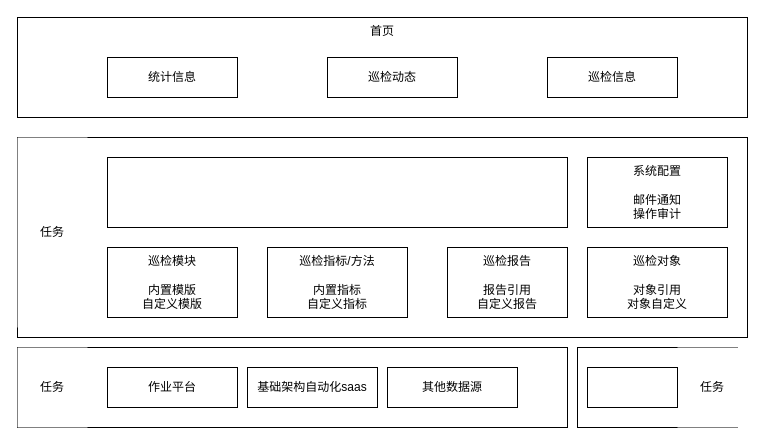
Image size: 765x445. Some labels were removed from this diagram. The shapes that lost their labels are listed below. From the top down, each one's centre as x and y in pixels, then its label:
At (337,192): "巡检任务 多应用巡检 常用任务 数据存储 多维度巡检 定时/周期/立即 任务历史".
At (632,387): "应用配置管理".
